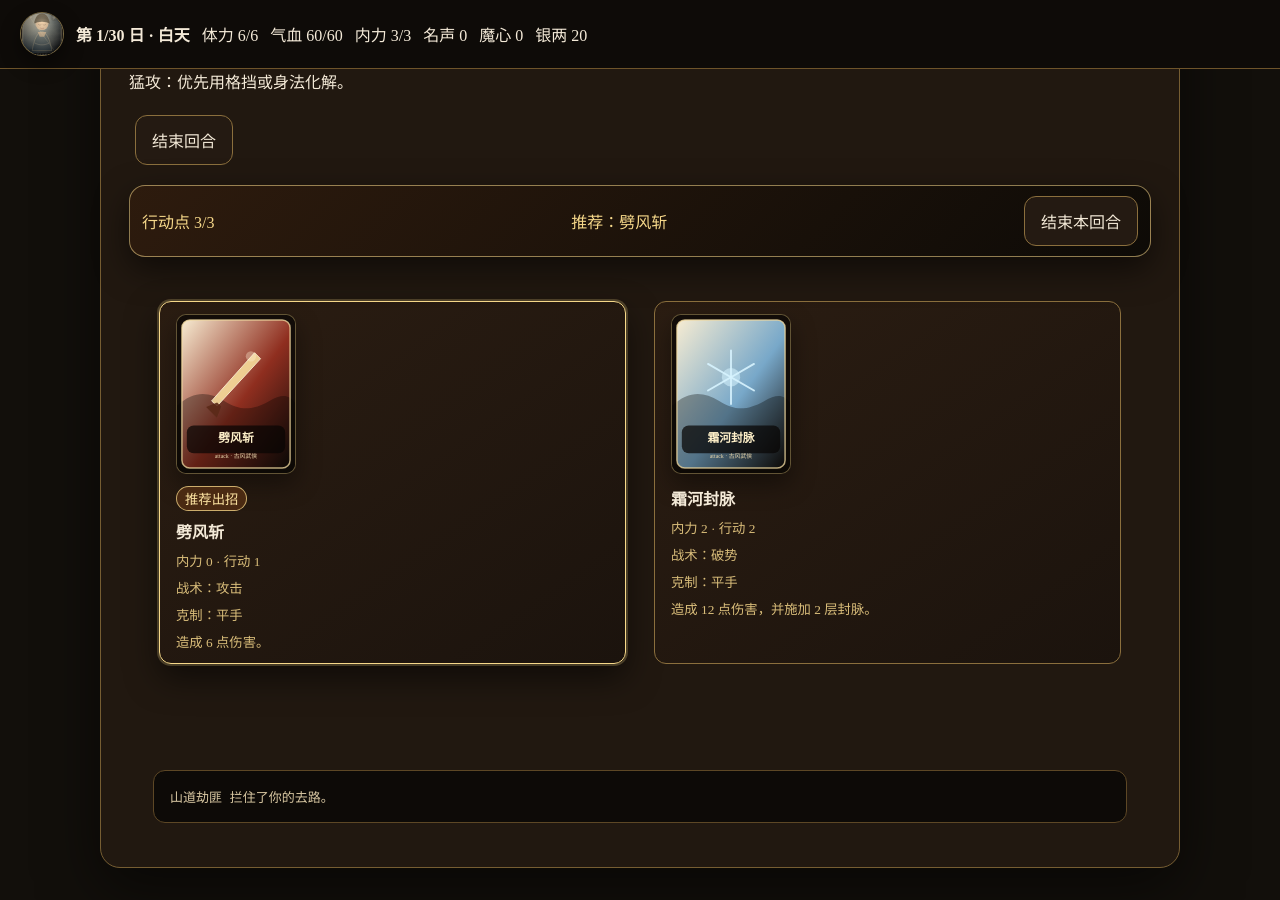
Test case: route UI presentation › keeps combat on the player turn after playing a card action
(page scrolled)
Click the button "推荐出招 劈风斩 内力 0 · 行动 1 战术：攻击 克制：平手 造成 6 点伤害。" at [392, 483], box top-left (159, 301), bottom-right (626, 664)
(page scrolled)
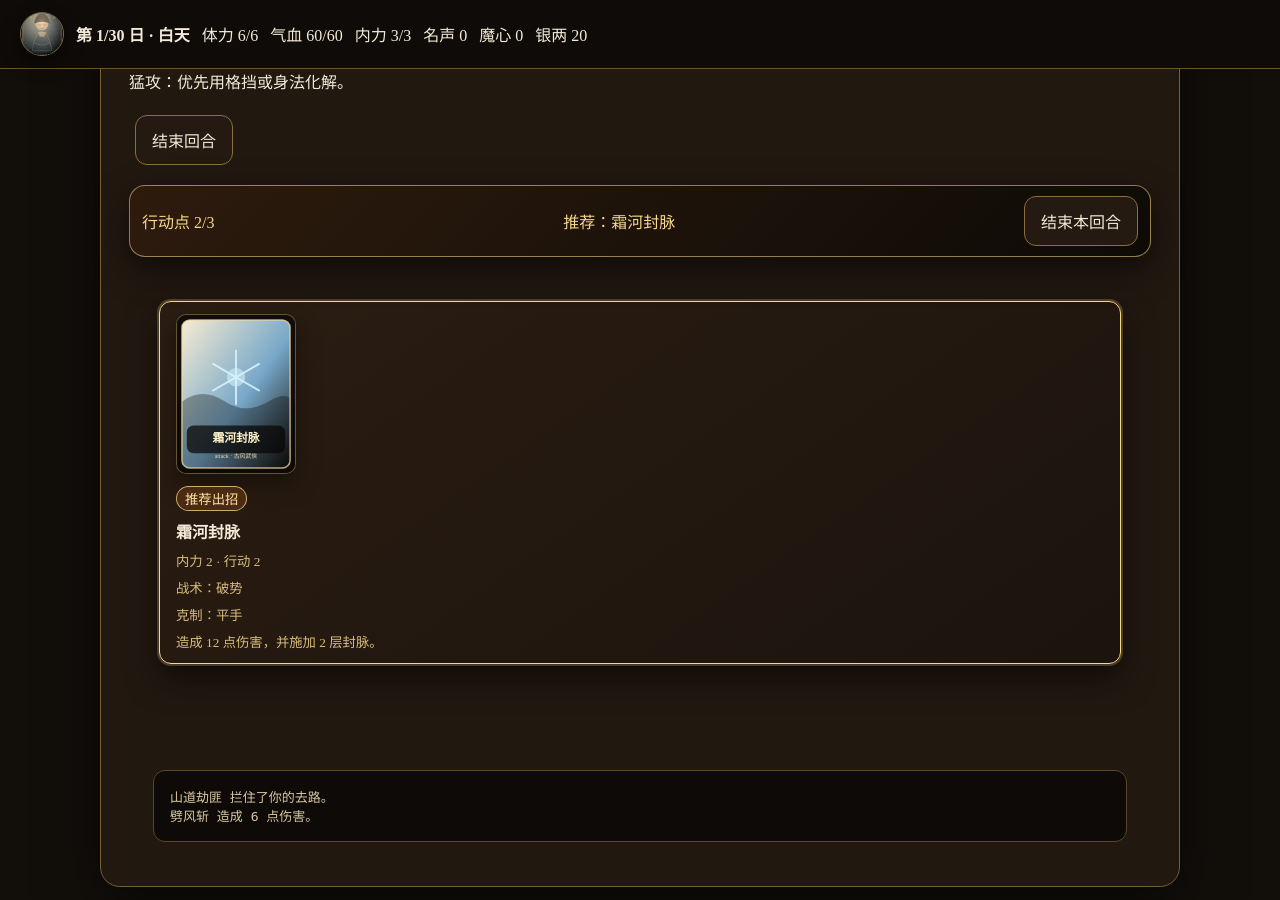
Now the text "山道劫匪 拦住了你的去路。 劈风斩 造成 6 点伤害。" is shown, box top-left (153, 770), bottom-right (1127, 842)
